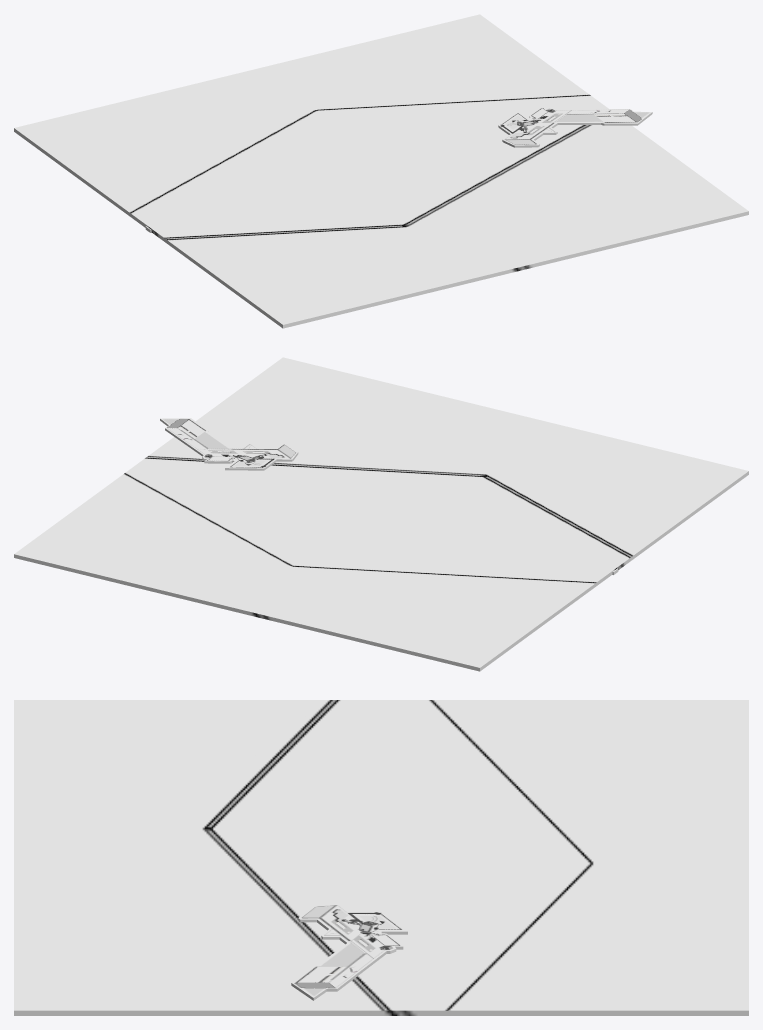
The picture shows the model from 3 angles, top to bottom: view 1: azimuth 30°, elevation 25°; view 2: azimuth 150°, elevation 25°; view 3: azimuth 270°, elevation 25°; orthographic projection. The views are drawn at different scales.
Visible parts, largest first — view 1: 平面, Curve.003; view 2: 平面, Curve.003; view 3: 平面, Curve.003.
Part boxes in pixels (x1=…): 平面: x1=14, y1=14, x2=748, y2=328; Curve.003: x1=498, y1=107, x2=652, y2=147; 平面: x1=14, y1=357, x2=748, y2=671; Curve.003: x1=160, y1=418, x2=298, y2=470; 平面: x1=14, y1=700, x2=748, y2=1015; Curve.003: x1=291, y1=904, x2=407, y2=1000.
Size of the model in its own units: 0.4633 by 0.0212 by 0.4495.
12 materials, 12 textured.
